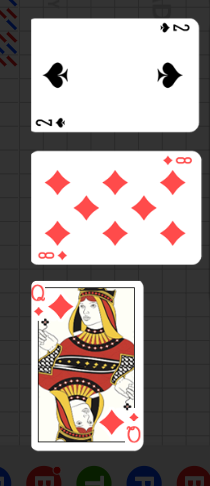2S: (34, 116, 68, 129)
8D: (37, 250, 69, 261)
9D: (126, 411, 142, 445)
